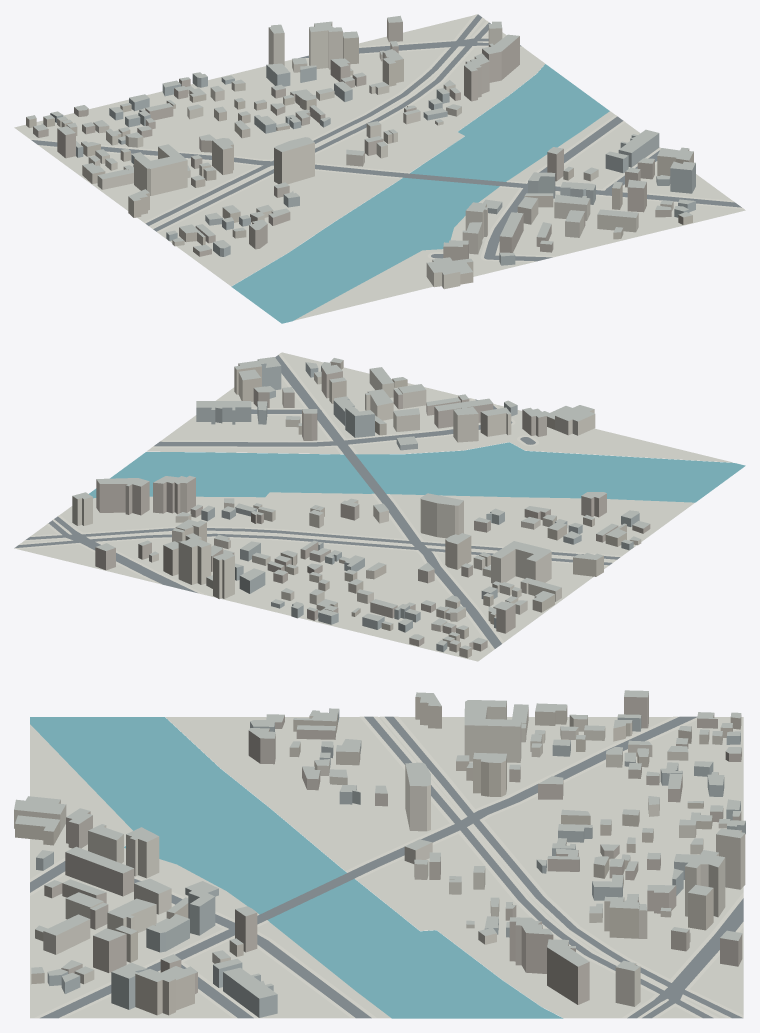
3 views of the same model, one above another, from view 1: azimuth 30°, elevation 25°; view 2: azimuth 150°, elevation 25°; view 3: azimuth 270°, elevation 25° (orthographic). The views are drawn at different scales.
Visible parts, largest first — view 1: city; view 2: city; view 3: city.
Part boxes in pixels (<box>): city: <box>14,14,745,323</box>; city: <box>14,352,745,661</box>; city: <box>14,690,745,1018</box>.
Size of the model in its own units: 503 by 40.08 by 513.
